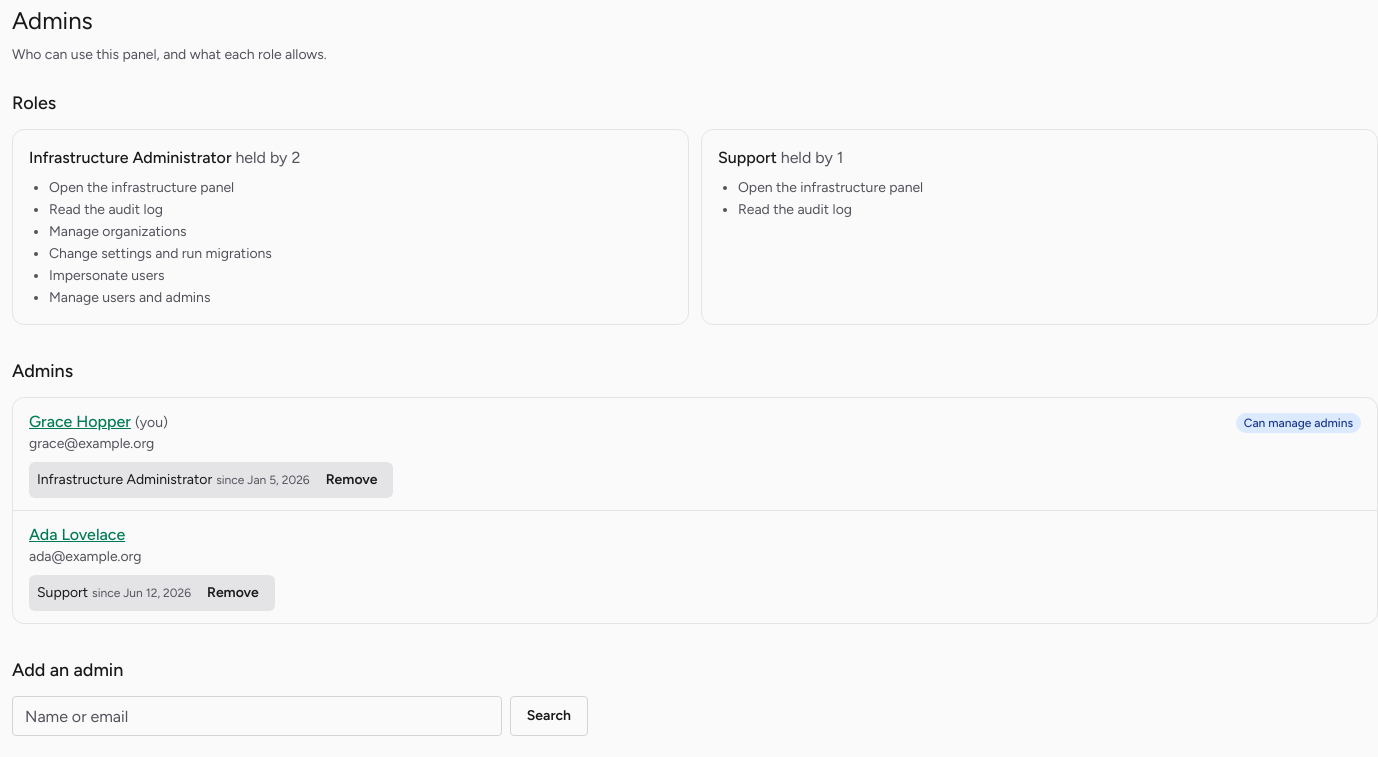
Test: InfraAdminsPage › asks for a role before granting
This screenshot has width=1378, height=757.
Type "kat" into the search field named "Find a user" at (257, 716), box [12, 696, 502, 736]
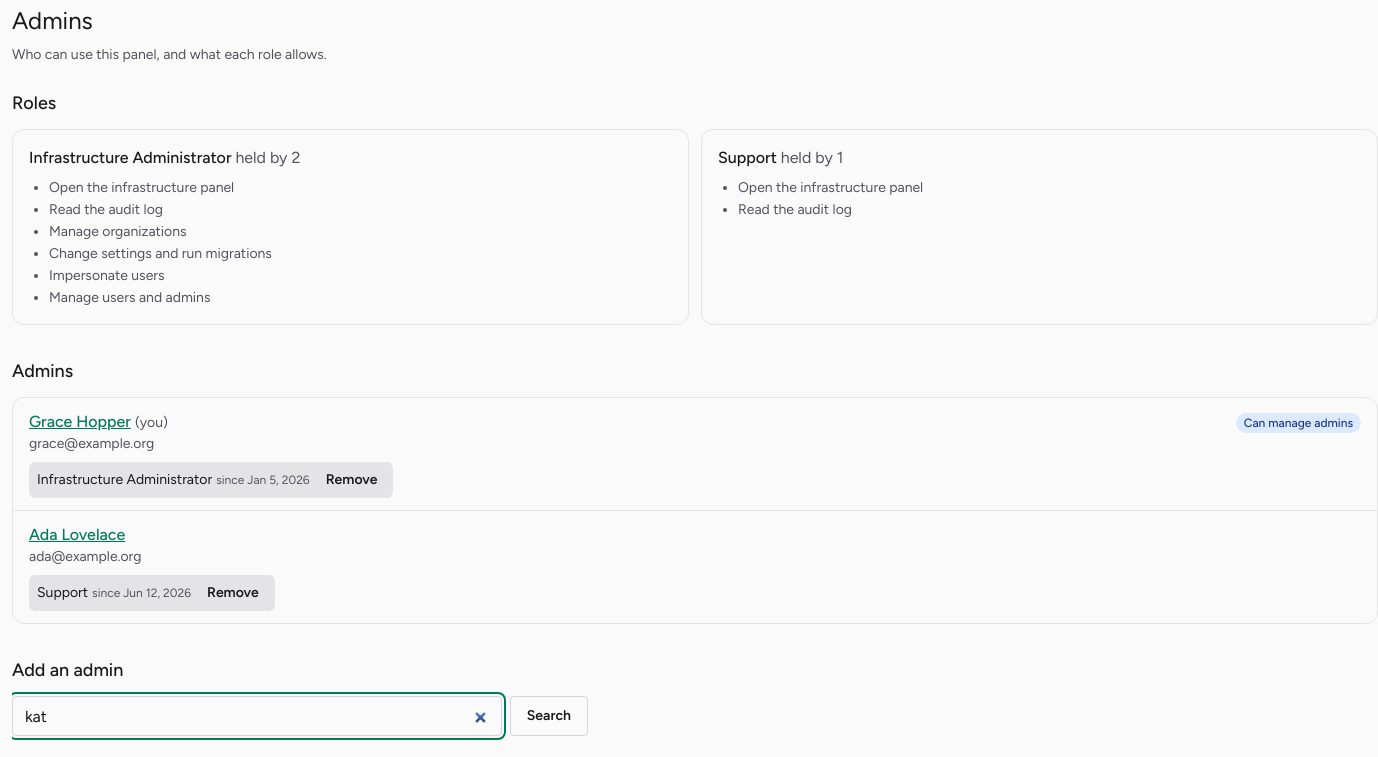
Click the button "Search" at (549, 716), box [510, 696, 588, 736]
(page scrolled)
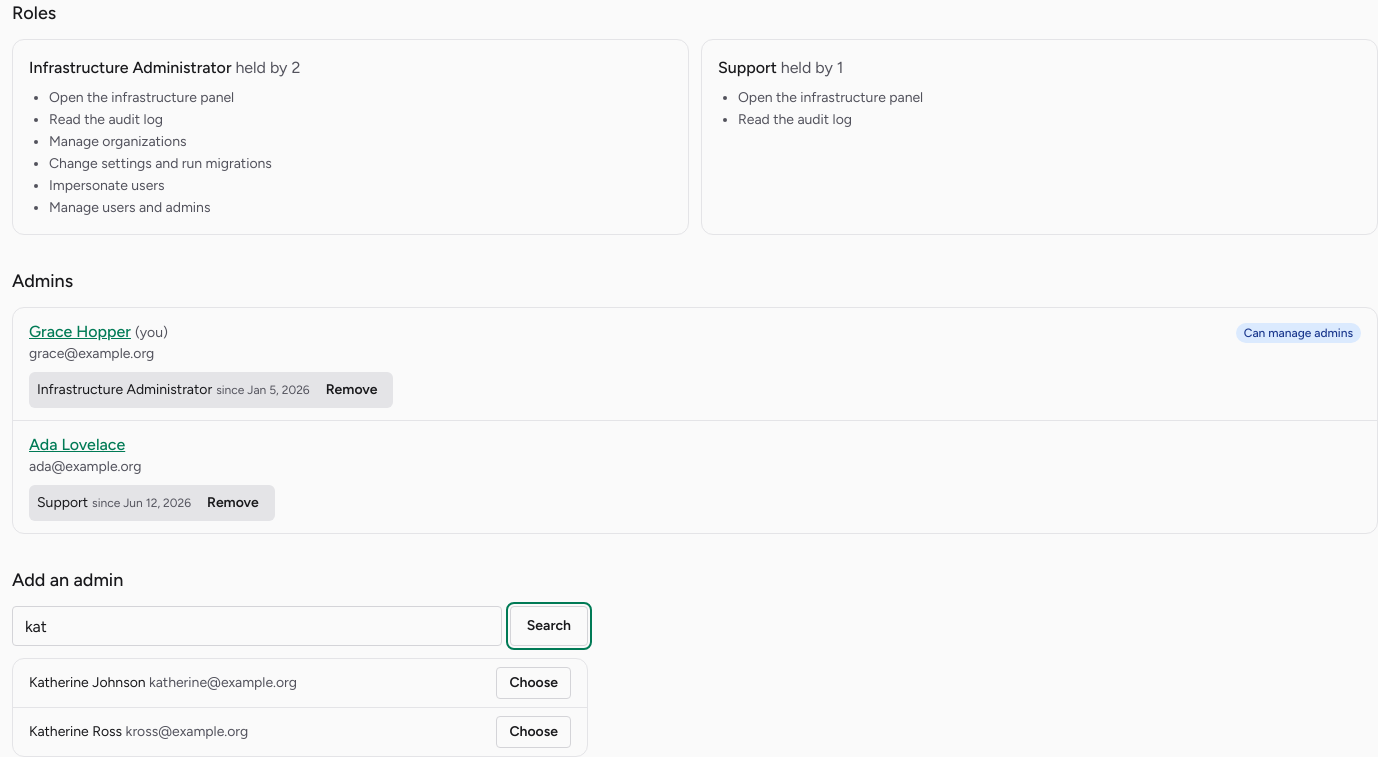
Click the button with aria-label "Choose Katherine Johnson" at (534, 683), box [496, 667, 571, 699]
(page scrolled)
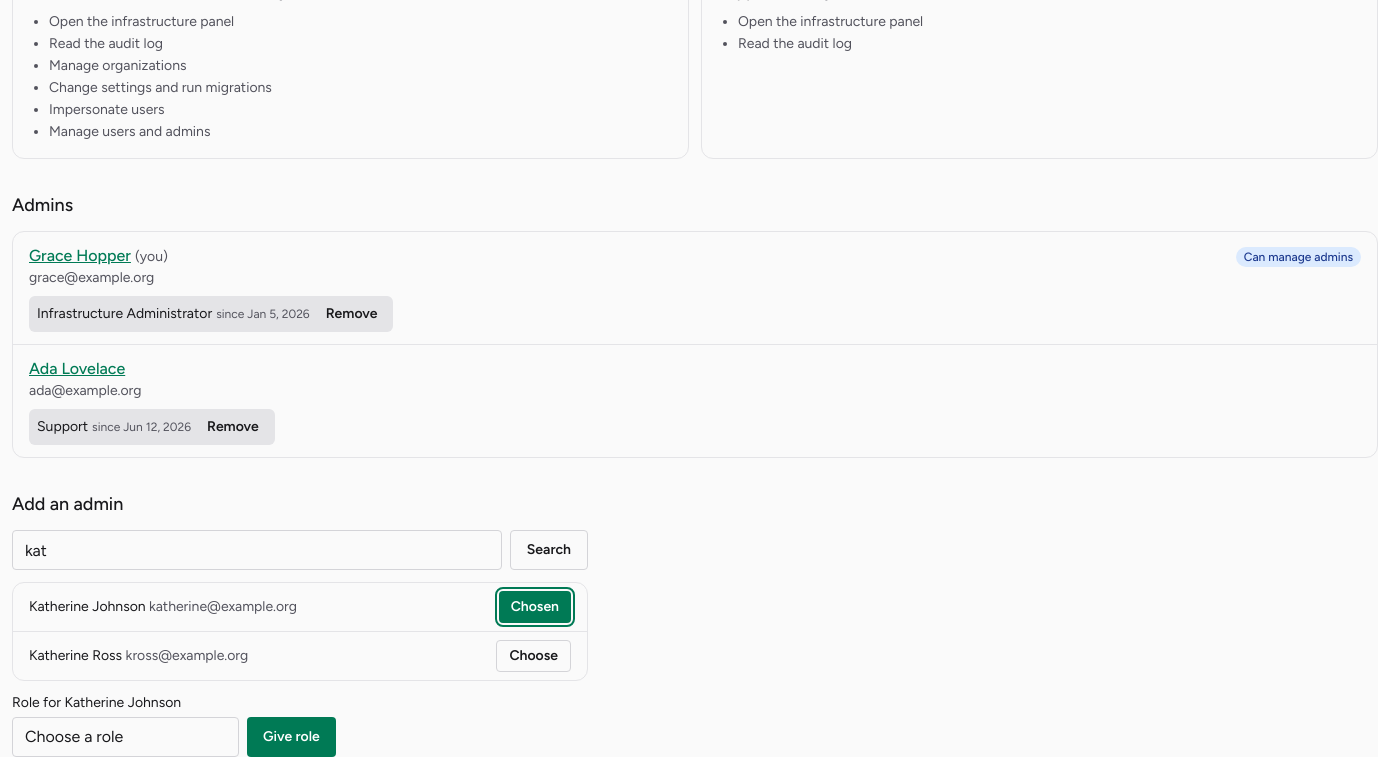
Click the button "Give role" at (291, 737), box [247, 717, 336, 756]
(page scrolled)
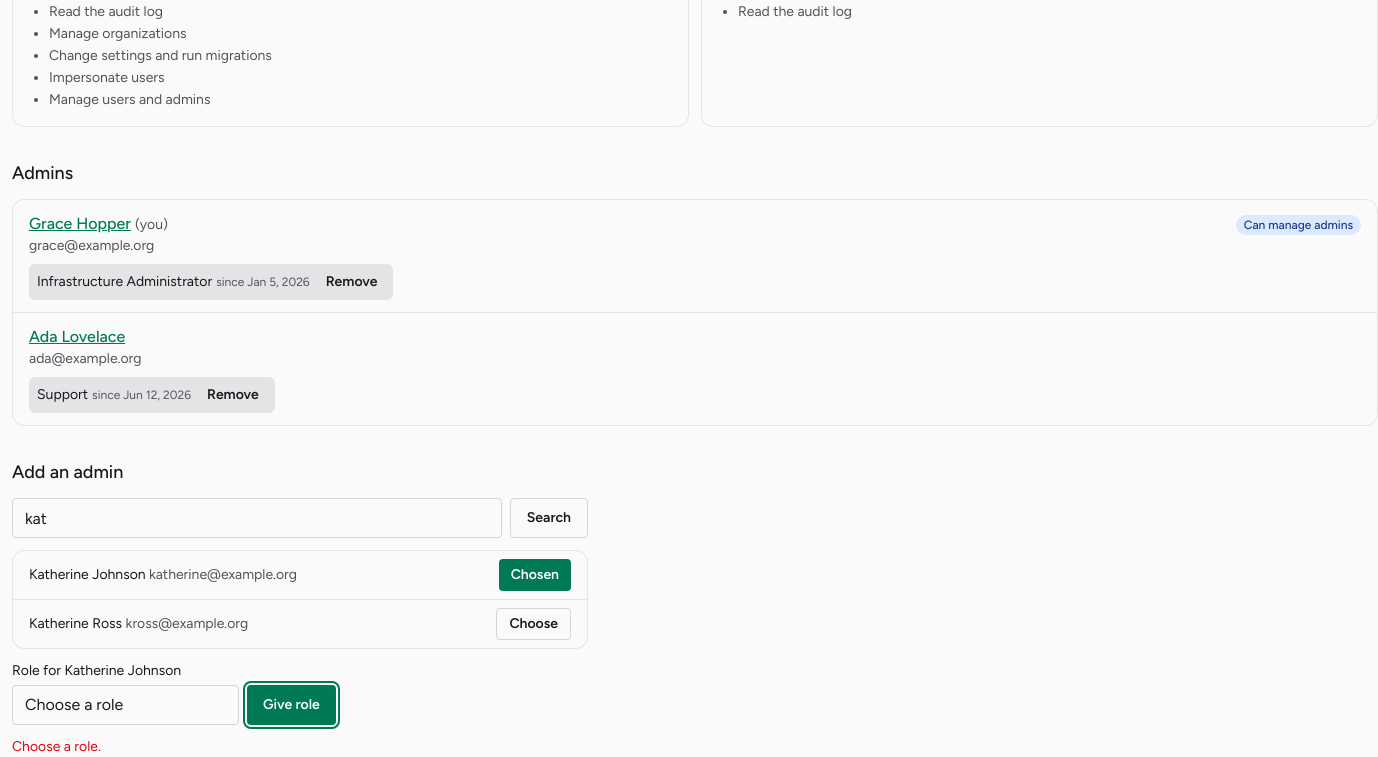
Now the message reads "Choose a role.", box [12, 738, 101, 755]
